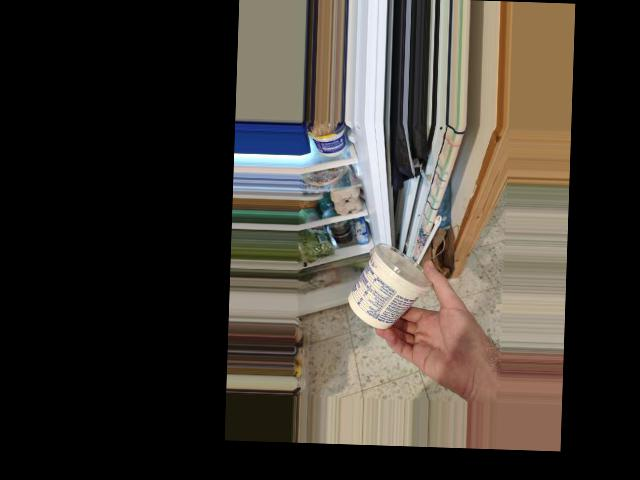cotage: (350, 237, 433, 319)
